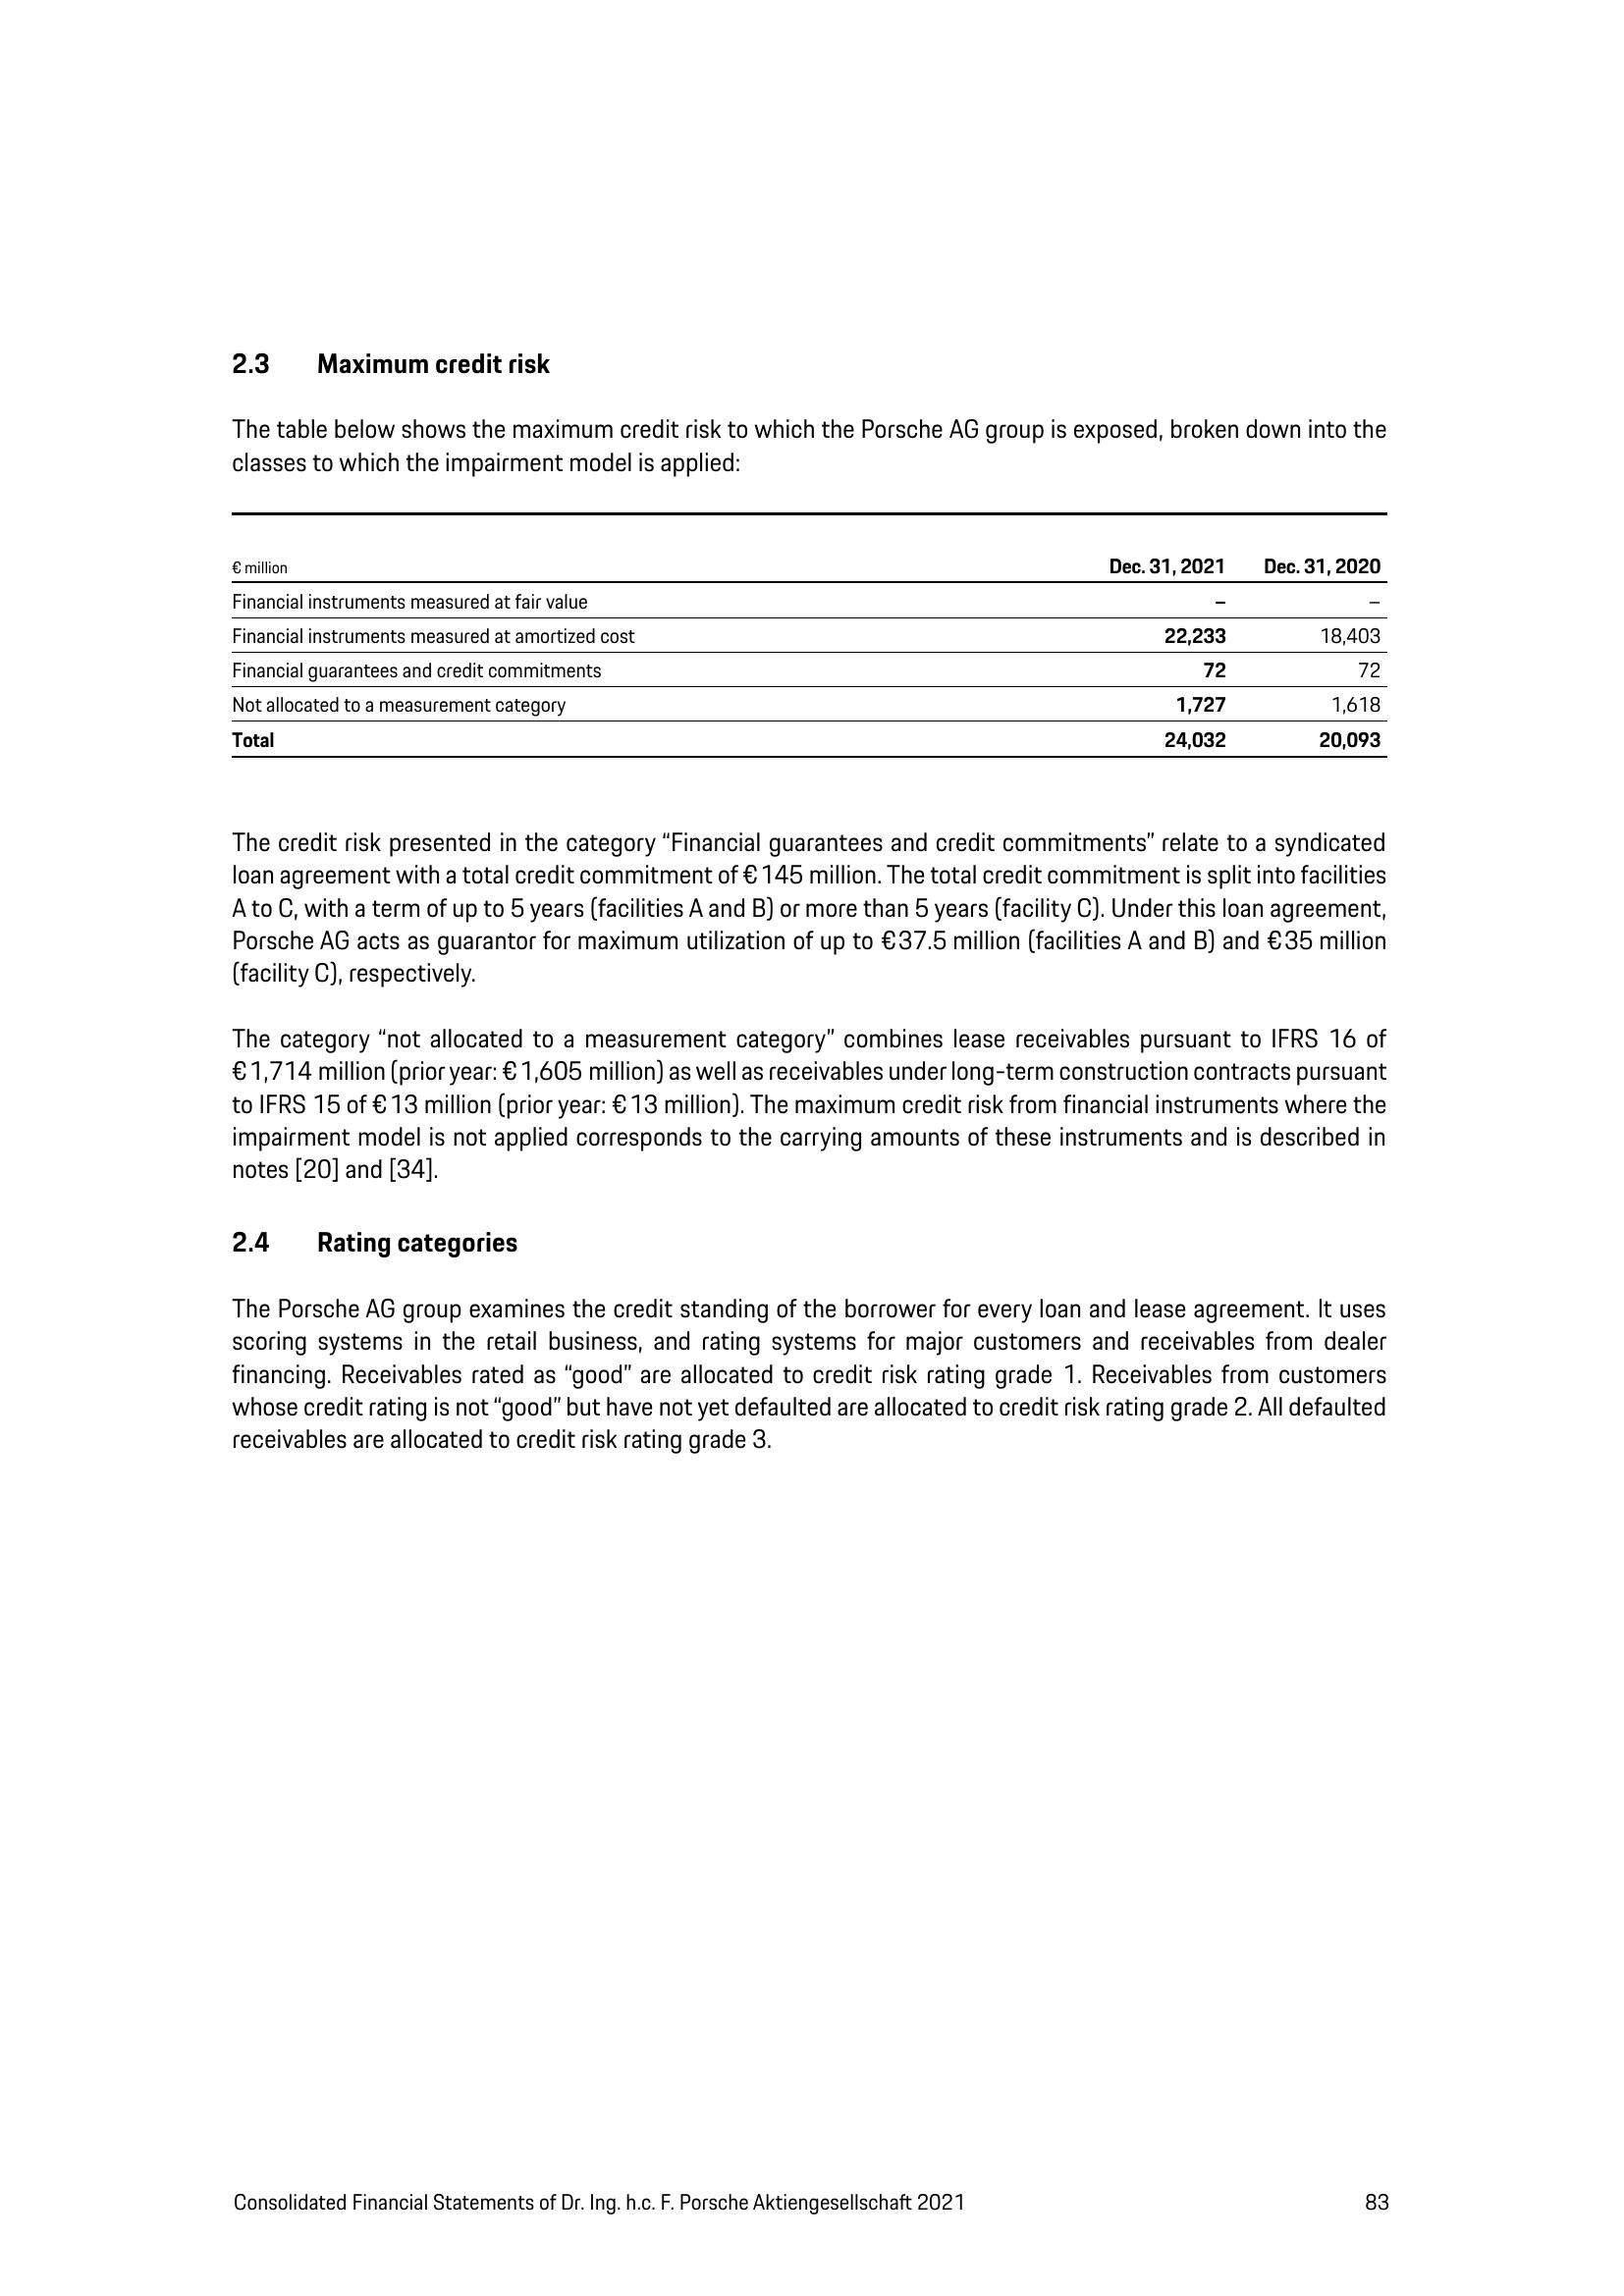Footer: (0, 2117, 1624, 2296)
Header: (0, 0, 1624, 232)
Table: (190, 506, 1408, 757)
